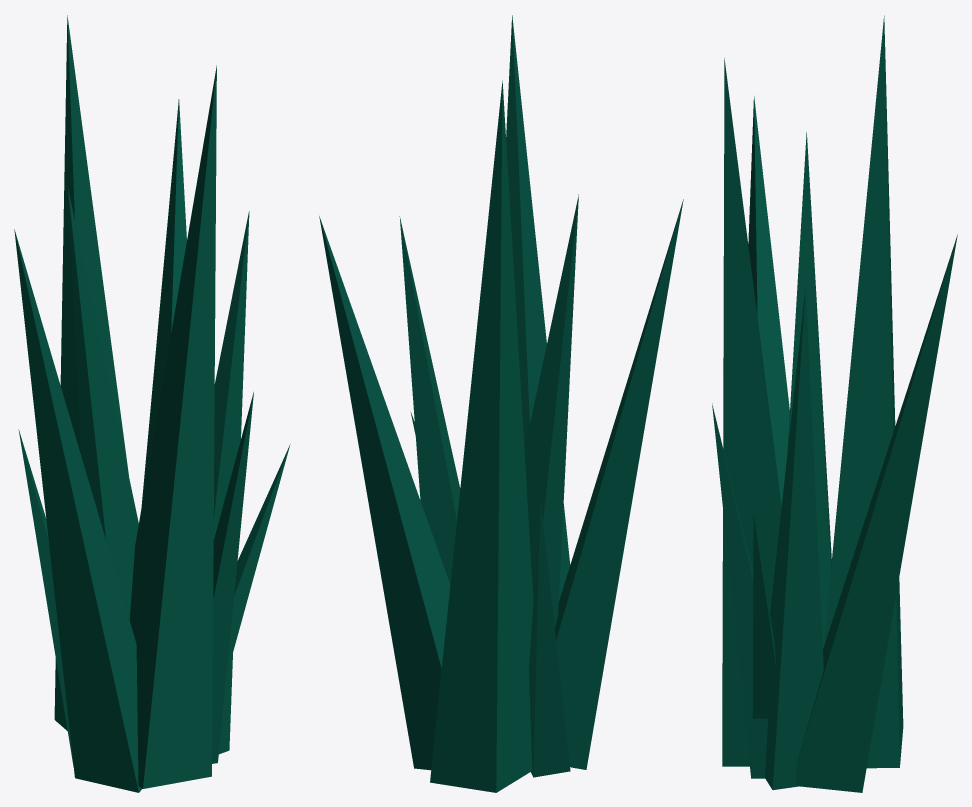
The model's file is Grass_.FBX.
The picture shows the model from 3 angles, left to right: view 1: azimuth 30°, elevation 25°; view 2: azimuth 150°, elevation 25°; view 3: azimuth 270°, elevation 25°; orthographic projection.
Visible parts, largest first — view 1: Grass; view 2: Grass; view 3: Grass.
Part boxes in pixels (box(x1,y1,x2,y2)): Grass: box(14, 15, 290, 792); Grass: box(319, 15, 683, 792); Grass: box(712, 15, 957, 792).
Size of the model in its own units: 10.19 by 25.64 by 7.83.
